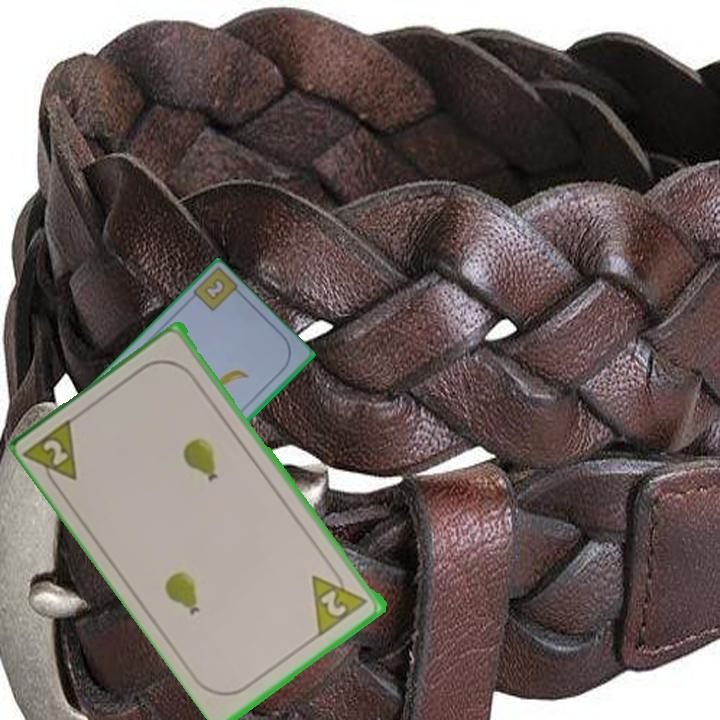2b: (203, 277, 226, 301)
2p: (22, 413, 81, 496), (308, 562, 371, 638)
